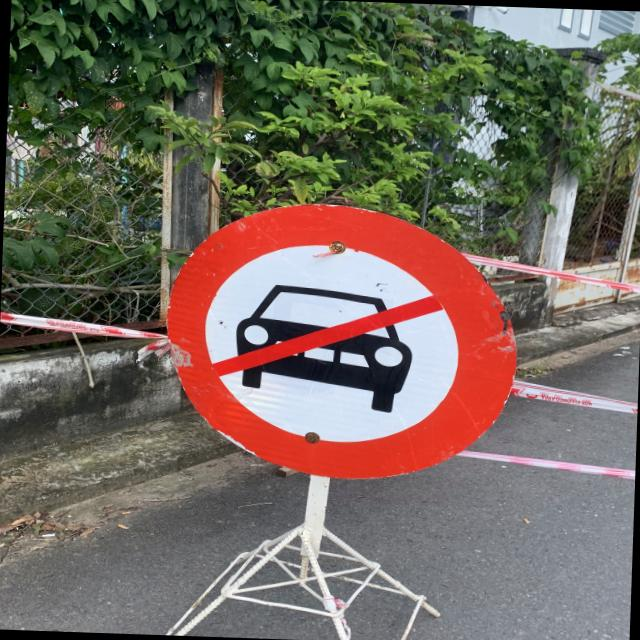Cam_O_To: (162, 198, 528, 486)
